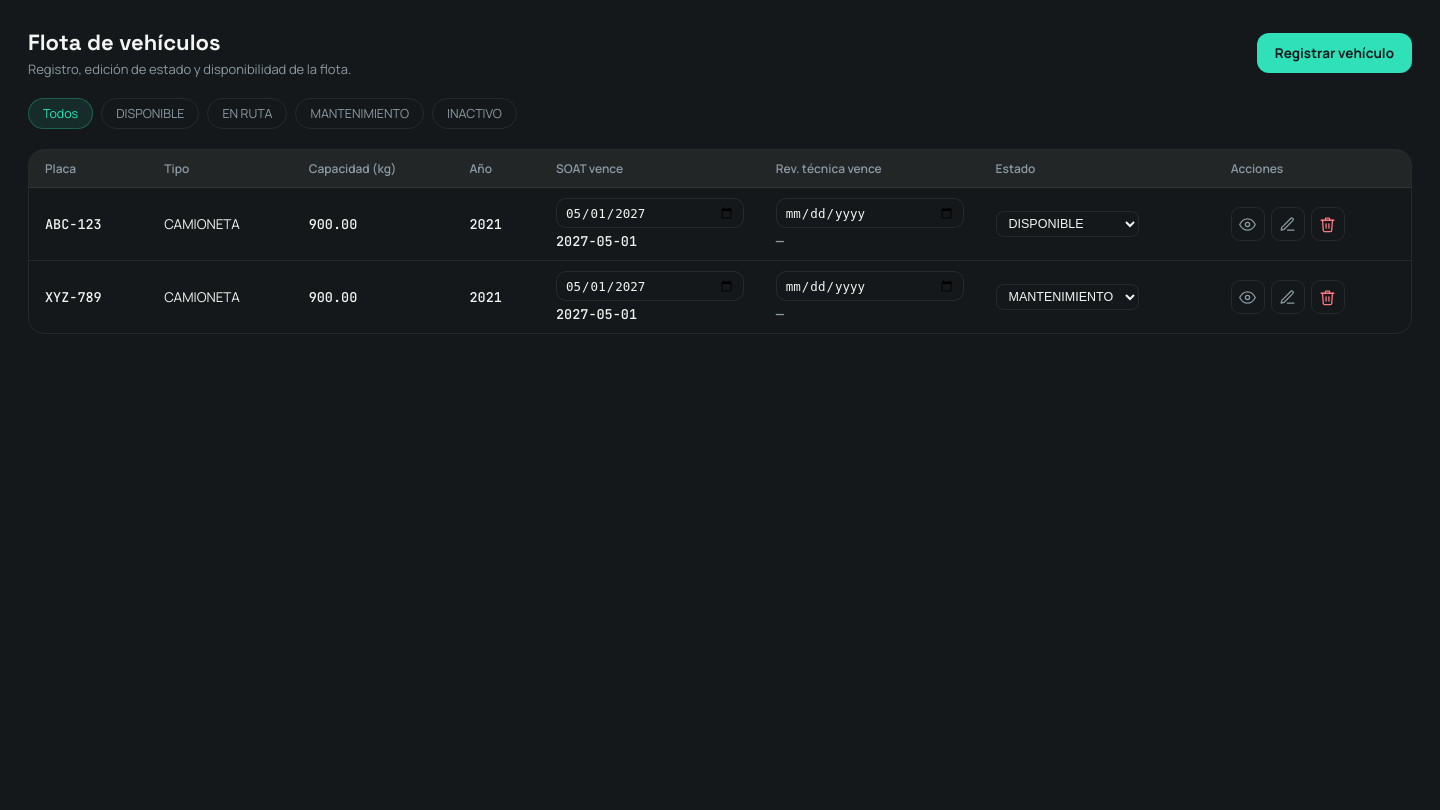
Test: Flota: filtros, estado, documentos y errores › cambiar el estado del vehículo envía solo el estado
Select "MANTENIMIENTO" in the dropdown named "Estado del vehículo ABC-123" at [1067, 224], box [996,211,1138,237]
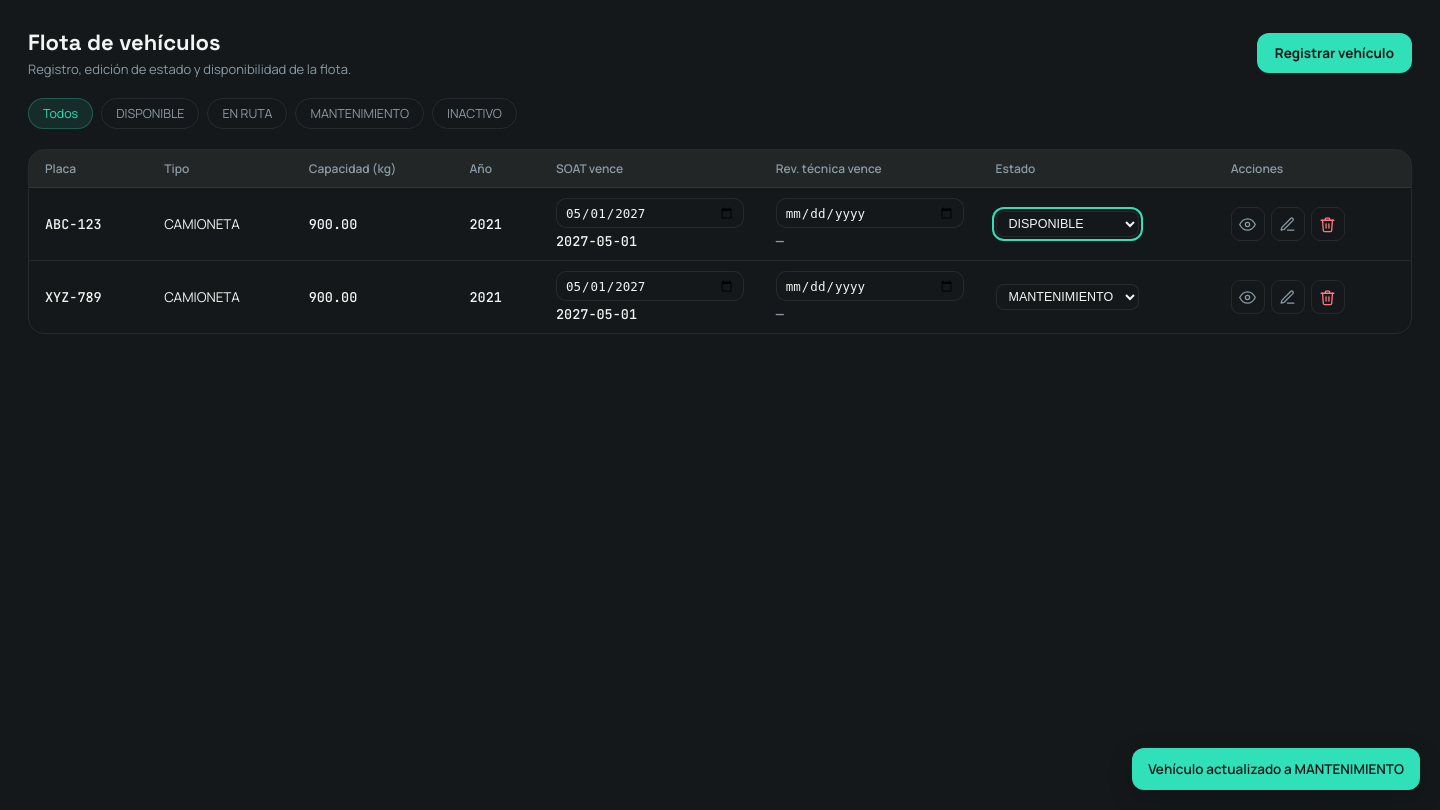
Expected: the text "Vehículo actualizado a MANTENIMIENTO" is shown, [1132,748,1420,790]
